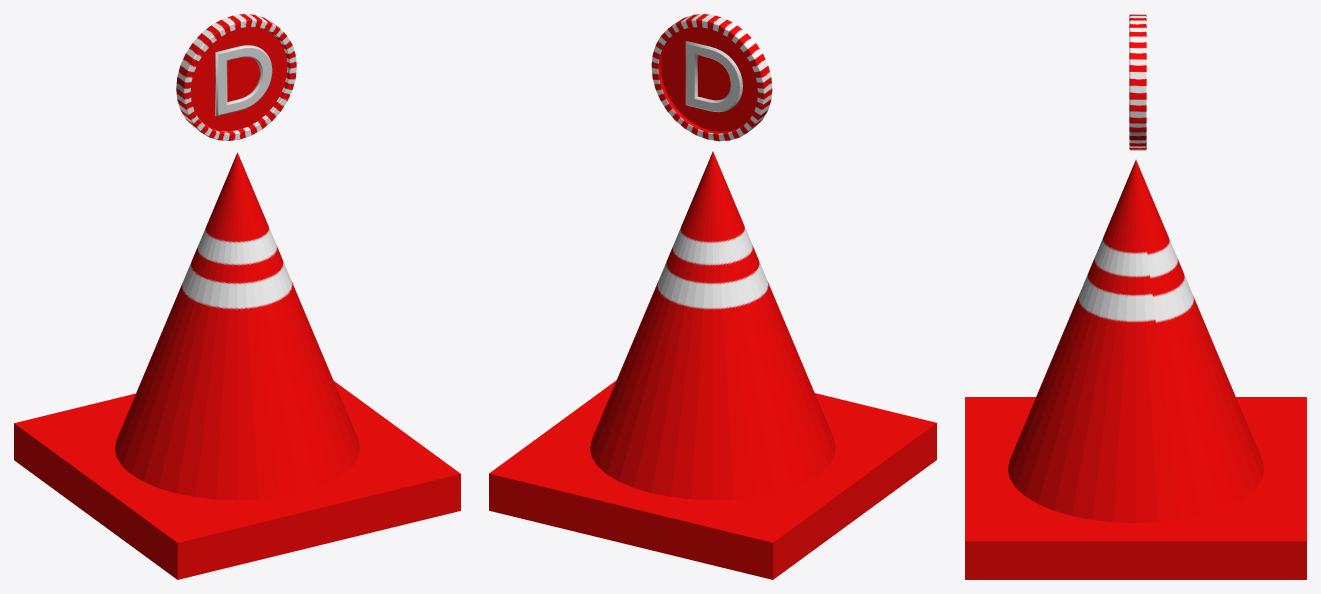
Rendered from cone_with_coin_D.dae.
3 views of the same model, side by side, from view 1: azimuth 30°, elevation 25°; view 2: azimuth 150°, elevation 25°; view 3: azimuth 270°, elevation 25° (orthographic). The views are drawn at different scales.
Visible parts, largest first — view 1: Sankaku_Cone, Cylinder_001, Text_003; view 2: Sankaku_Cone, Cylinder_001, Text_000; view 3: Sankaku_Cone, Cylinder_001.
Boxes of the visible parts, <box> form: Sankaku_Cone: <box>14,152,460,579</box>; Cylinder_001: <box>176,14,296,140</box>; Text_003: <box>215,45,272,116</box>; Sankaku_Cone: <box>489,151,936,579</box>; Cylinder_001: <box>651,14,772,141</box>; Text_000: <box>685,41,742,112</box>; Sankaku_Cone: <box>965,160,1306,579</box>; Cylinder_001: <box>1129,14,1146,150</box>.
Bounding box in the file's own units: 0.4 × 0.4 × 0.6295.
2 materials, 2 textured.
